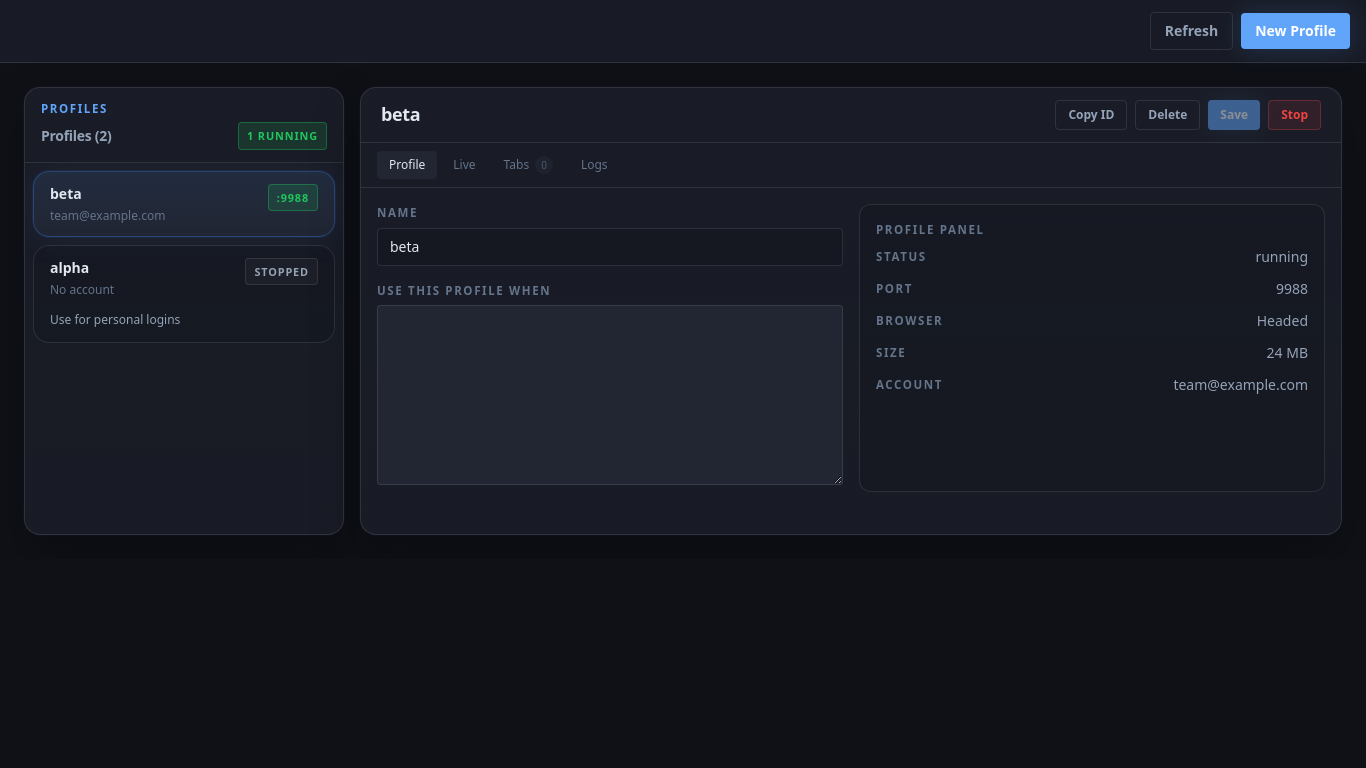
ProfilesPage › enables save only after profile fields change
Check: the heading "beta" is shown, box [381, 105, 420, 125]
Click the button "alpha No account stopped Use for personal logins" at (70, 267), box [33, 245, 335, 343]
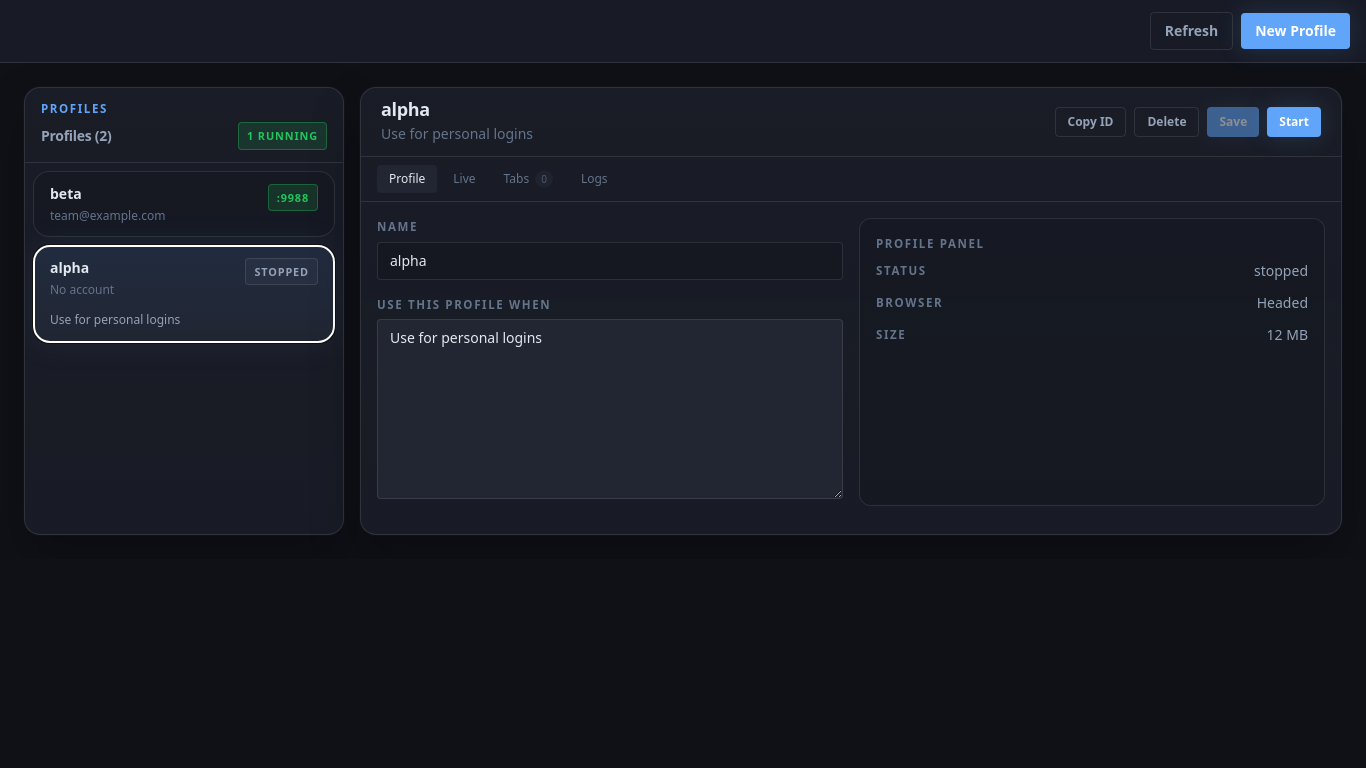
Check: the button "Save" is disabled, box [1208, 107, 1259, 137]
Replace the text in the field showing "alpha" with "alpha-updated" at (610, 261), box [377, 242, 843, 280]
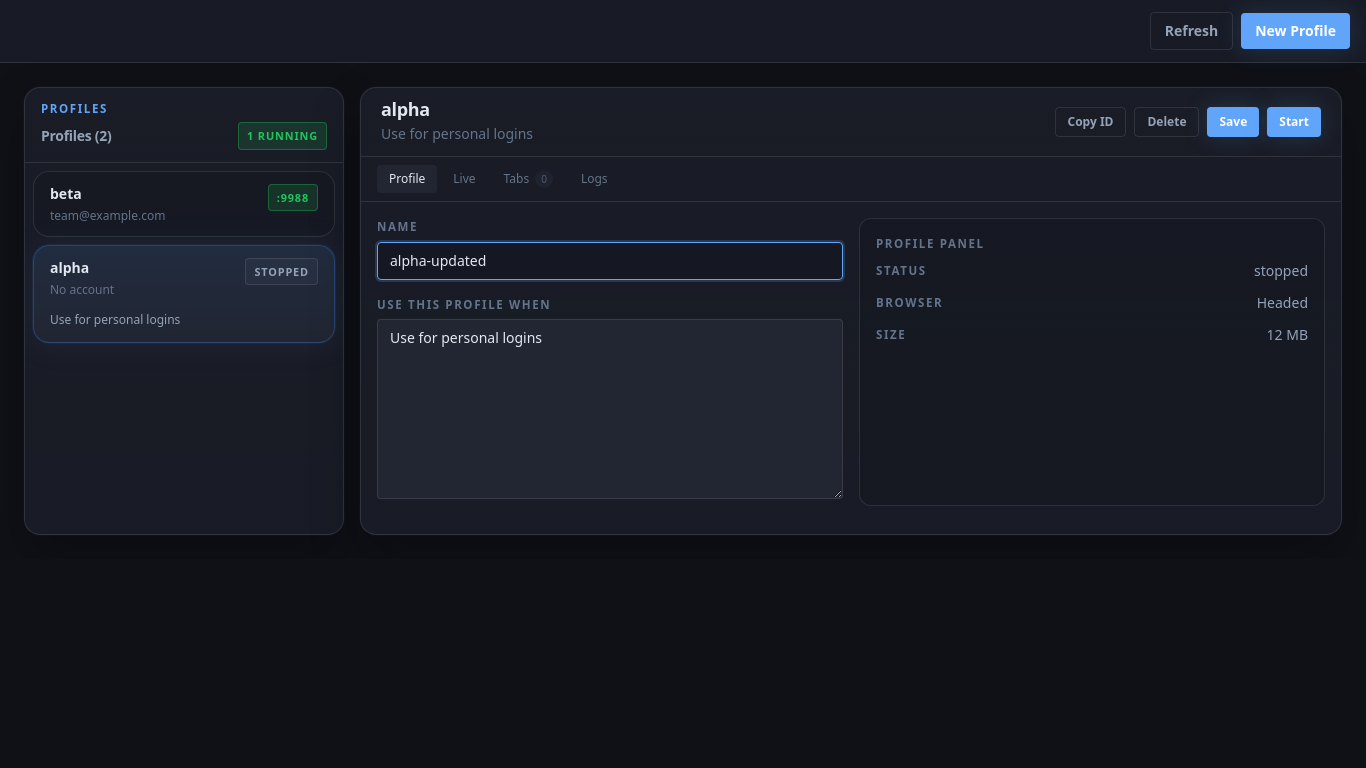
Check: the button "Save" is enabled, box [1208, 107, 1259, 137]
